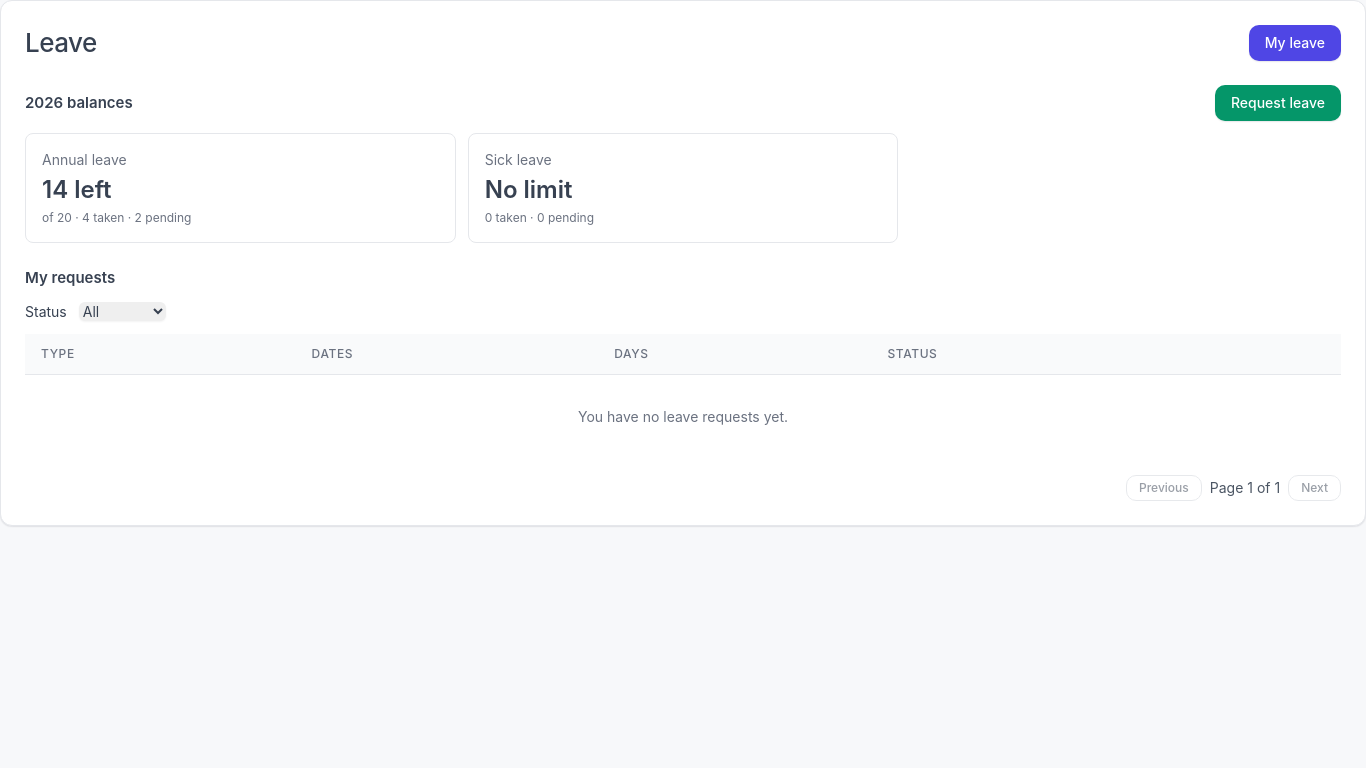
Test: Leave page › requesting leave › estimates working days from the organization calendar before submitting
Click the button "Request leave" at (1278, 103), box left=1215, top=85, right=1341, bottom=121
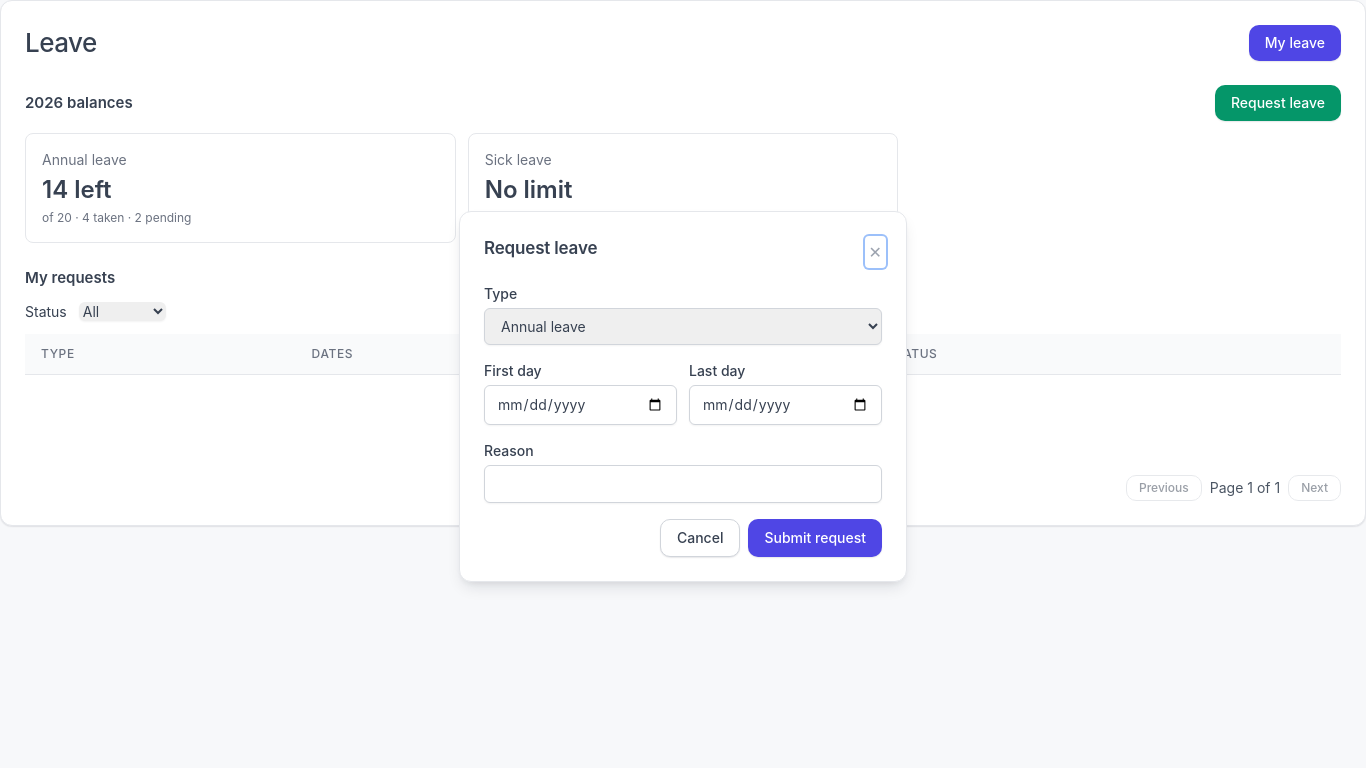
Type "2099-03-01" into the date field labelled "First day" at (580, 404), box left=484, top=384, right=677, bottom=424
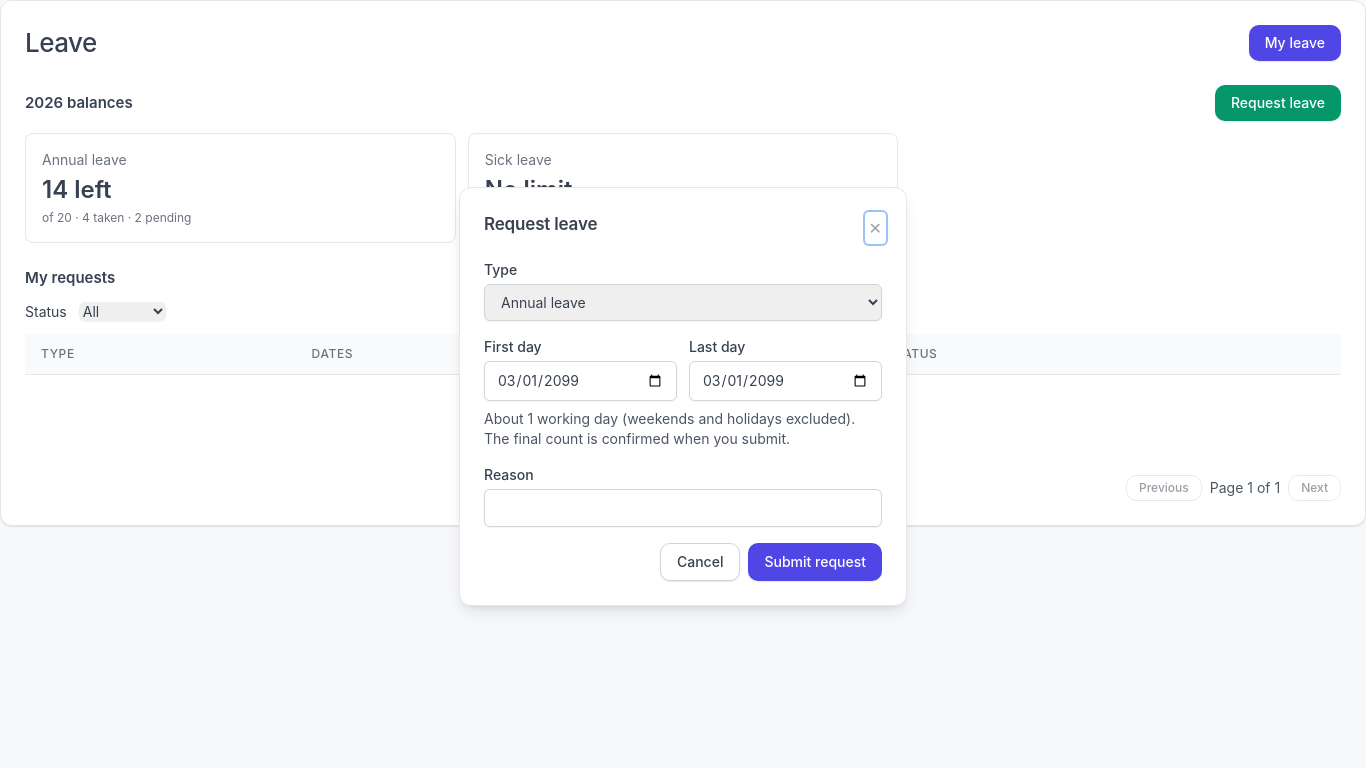
Type "2099-03-07" into the date field labelled "Last day" at (786, 380), box left=689, top=360, right=882, bottom=400
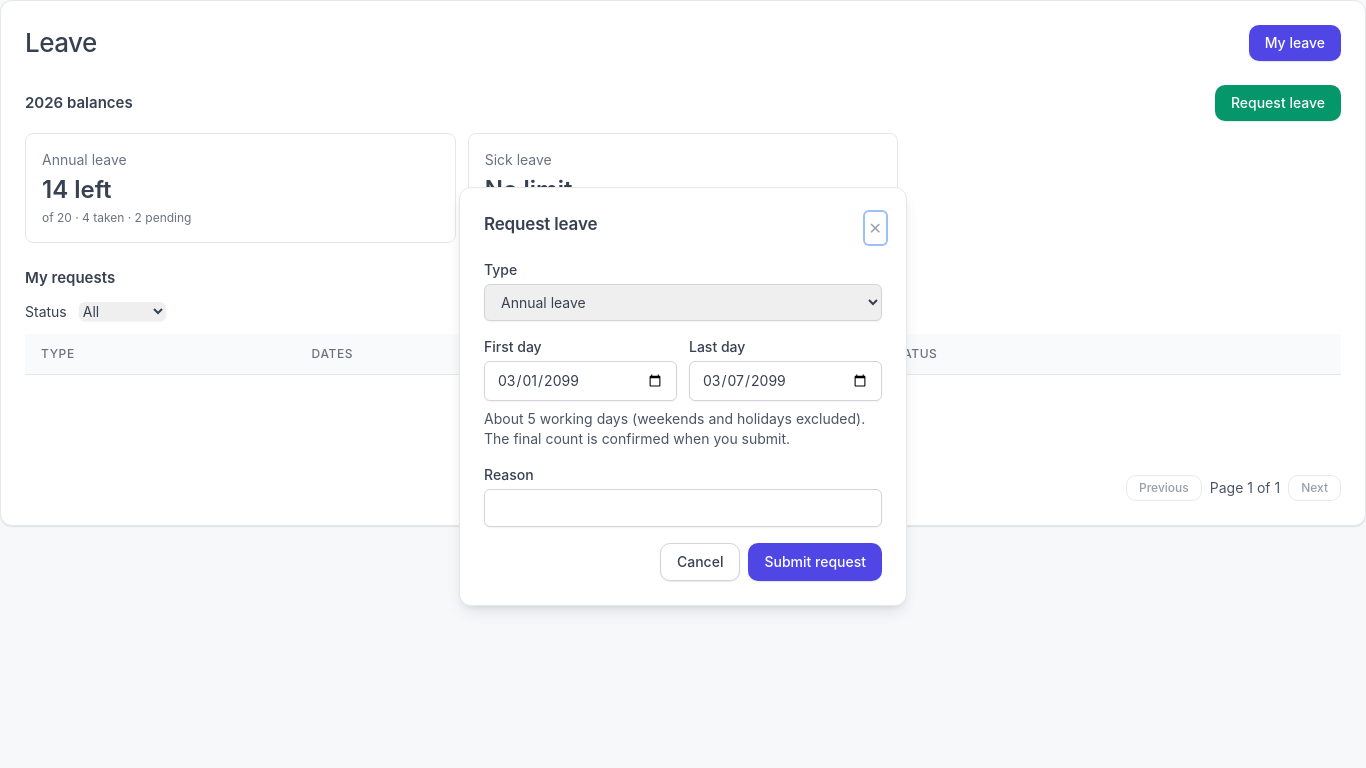
Now the text "About 5 working days" is shown, box left=484, top=408, right=882, bottom=448
